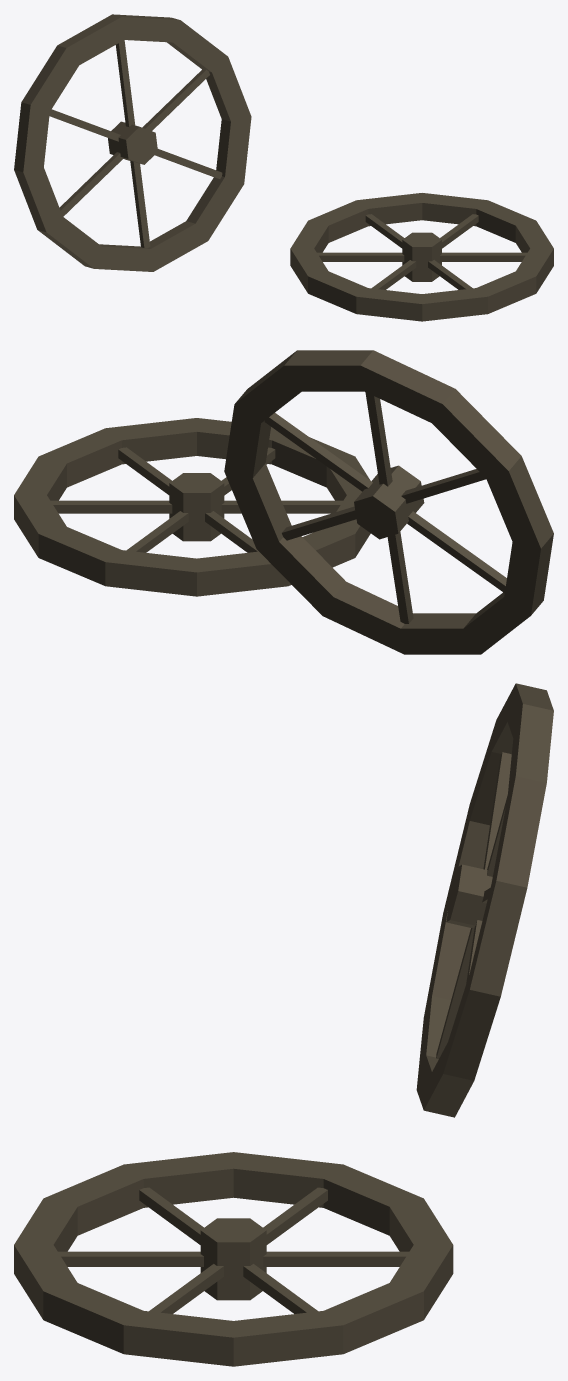
File: CartWheel.fbx
3 renders of one model, top to bottom at view 1: azimuth 30°, elevation 25°; view 2: azimuth 150°, elevation 25°; view 3: azimuth 270°, elevation 25°, orthographic. The views are drawn at different scales.
Visible parts, largest first — view 1: CartWheel; view 2: CartWheel; view 3: CartWheel.
Boxes of the visible parts, bbox=[...] form: CartWheel: bbox=[14, 14, 553, 321]; CartWheel: bbox=[14, 350, 553, 654]; CartWheel: bbox=[14, 683, 553, 1366].
Size of the model in its own units: 1.86 by 0.99 by 1.18.
